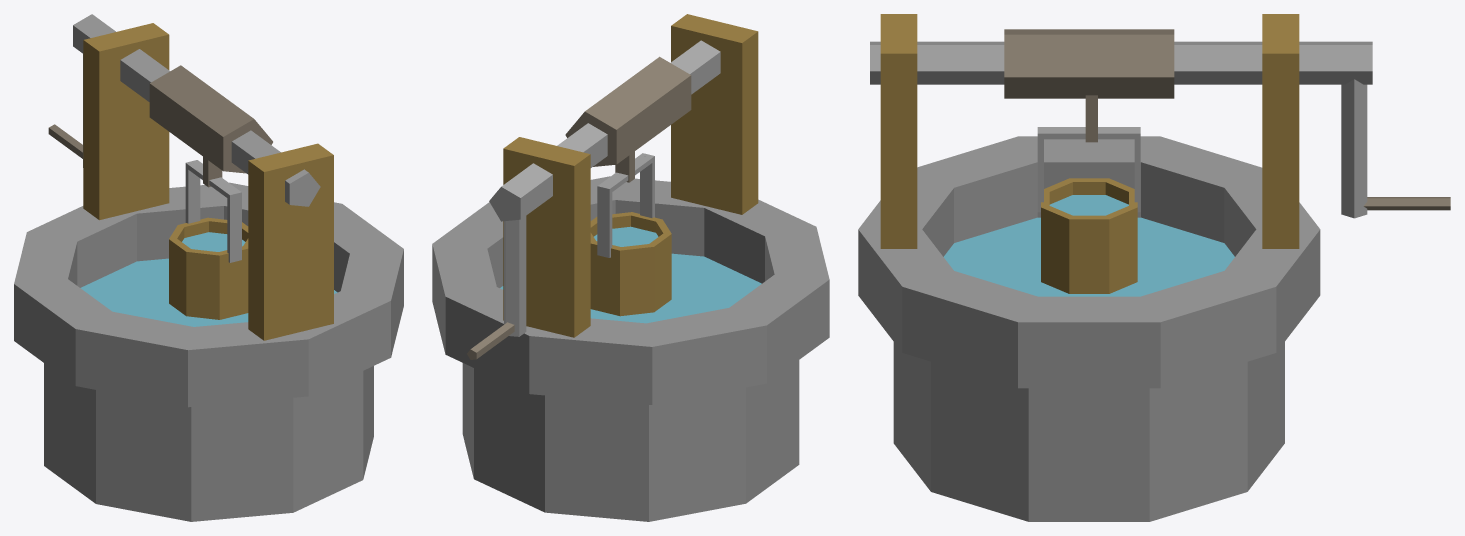
File: well.fbx
3 views of the same model, side by side, from view 1: azimuth 30°, elevation 25°; view 2: azimuth 150°, elevation 25°; view 3: azimuth 270°, elevation 25° (orthographic). The views are drawn at different scales.
Visible parts, largest first — view 1: Cylinder_4; view 2: Cylinder_4; view 3: Cylinder_4.
Boxes of the visible parts, <box> form: Cylinder_4: <box>14,14,403,521</box>; Cylinder_4: <box>432,14,829,521</box>; Cylinder_4: <box>858,14,1450,521</box>.
Size of the model in its own units: 184 by 191 by 248.
